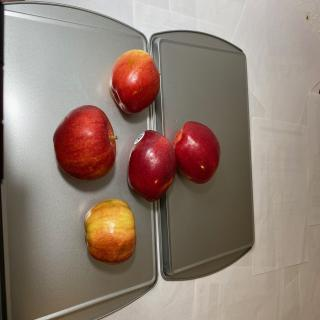Apple: (52, 105, 118, 181), (127, 130, 177, 202), (84, 199, 137, 264), (109, 49, 161, 114), (172, 121, 220, 184)
